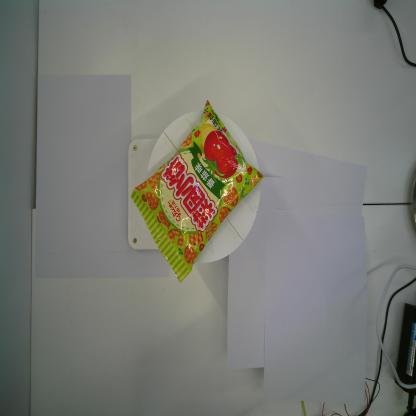Puffed Food: (129, 98, 264, 283)
